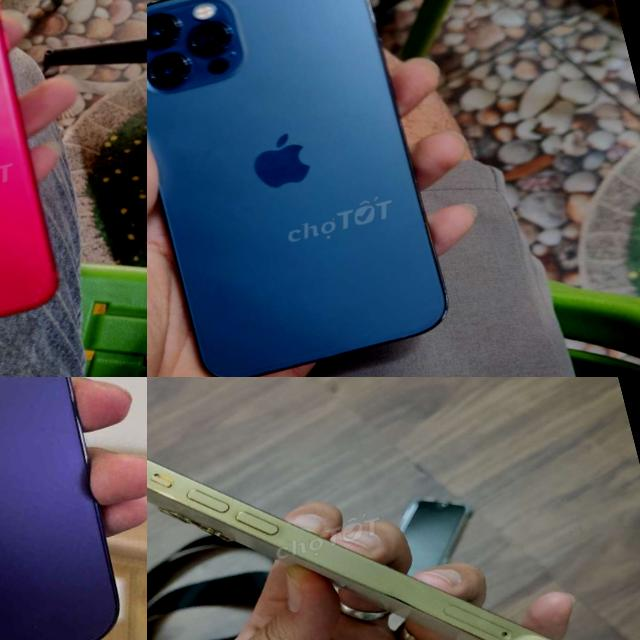gen_12_13: (147, 377, 615, 640), (147, 0, 454, 377)
gen_14: (0, 377, 145, 640)
gen_7_8: (0, 0, 81, 376)
